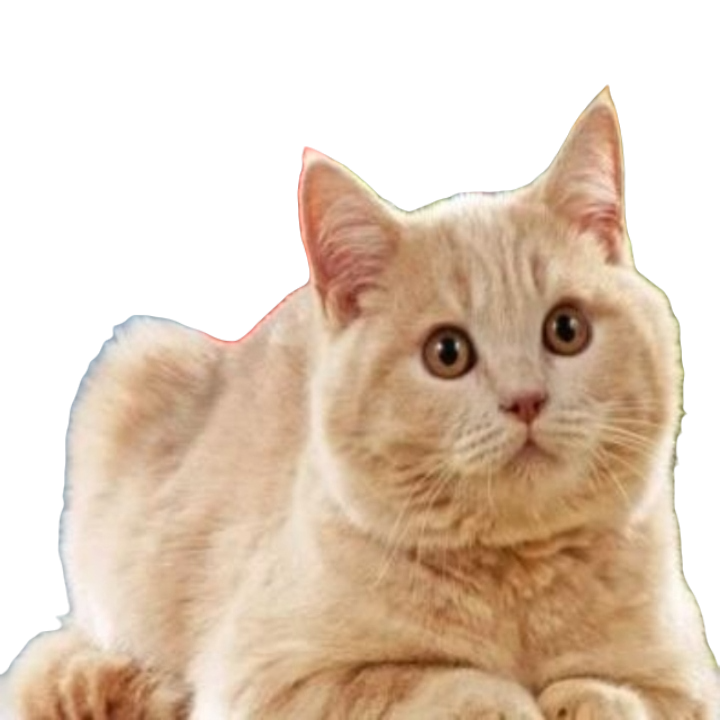Cat: (0, 83, 720, 719)
